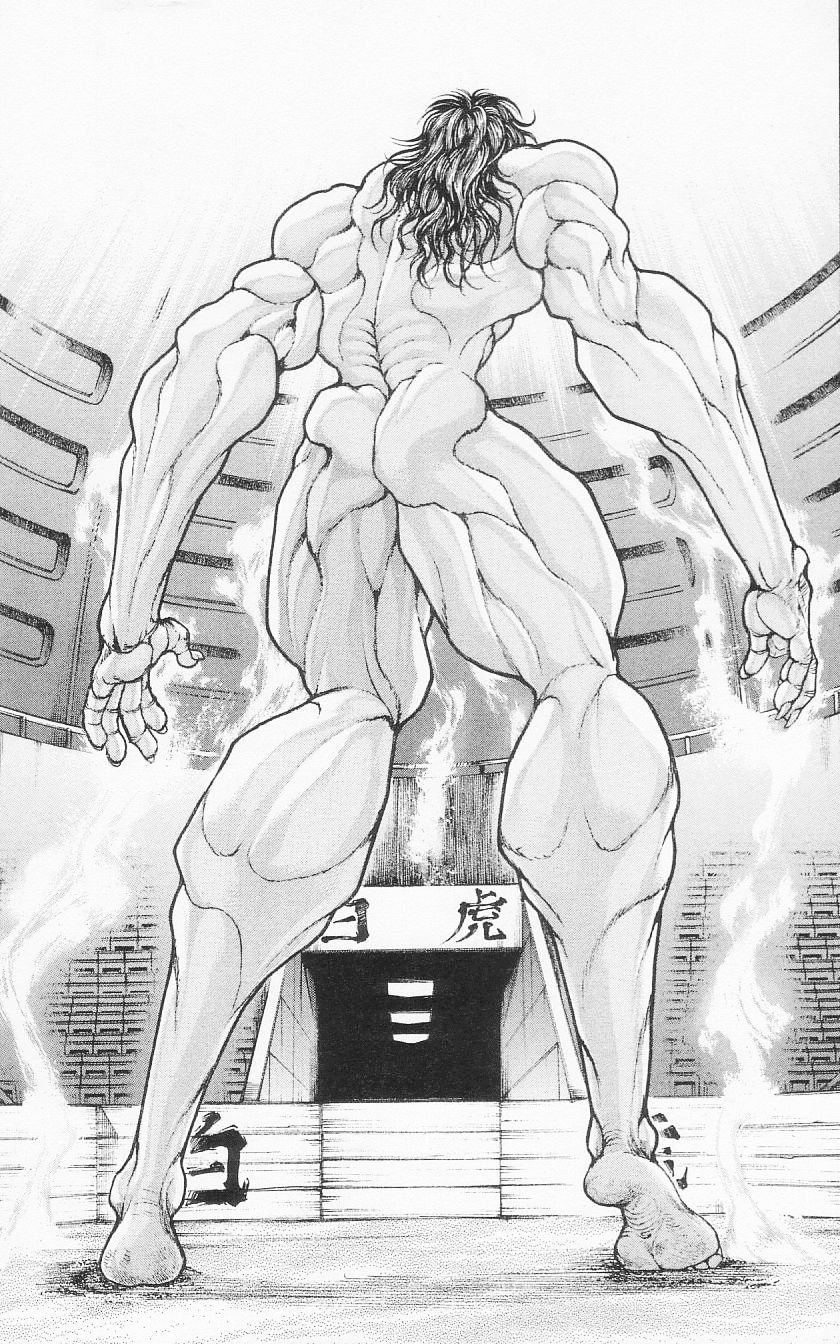Vignetta: (2, 1, 840, 1343)
